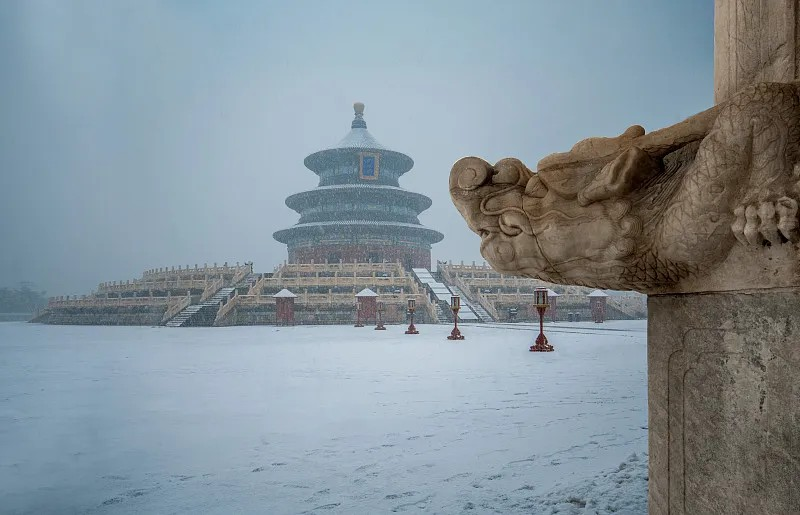Heaven: (272, 101, 444, 272)
